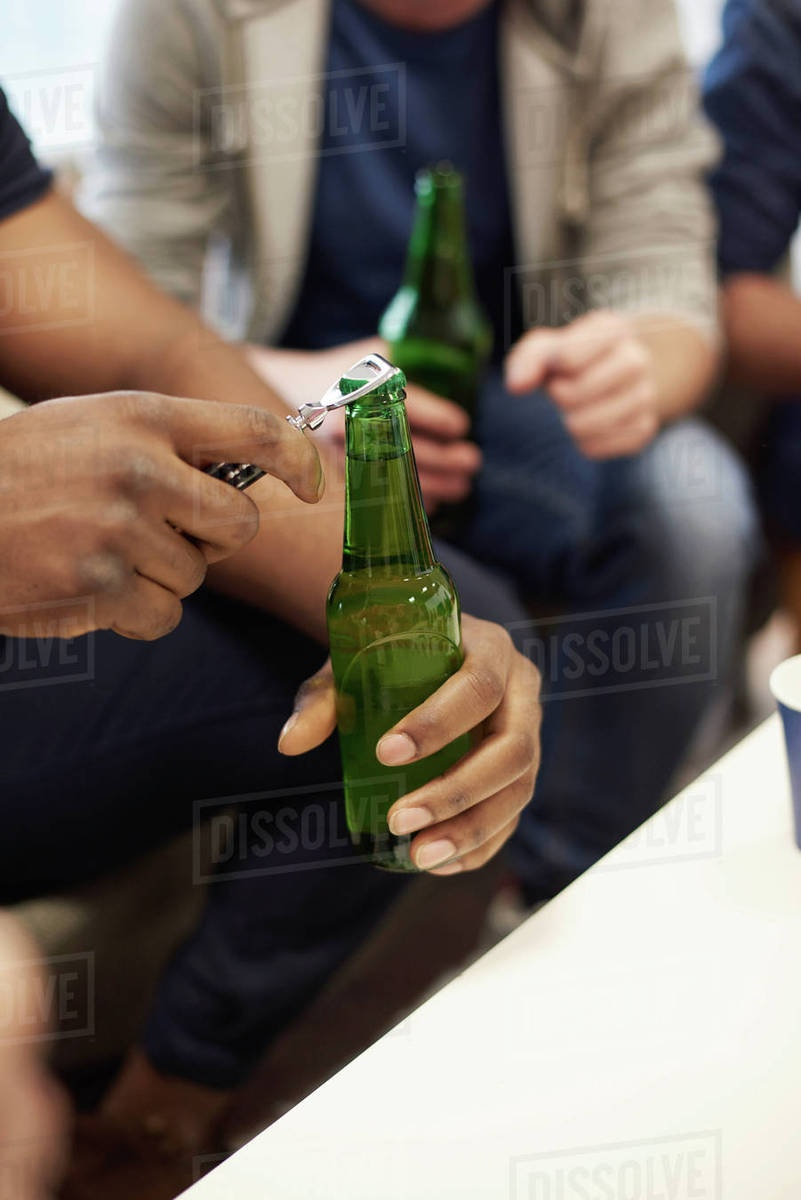beerBottle: (332, 370, 471, 871)
